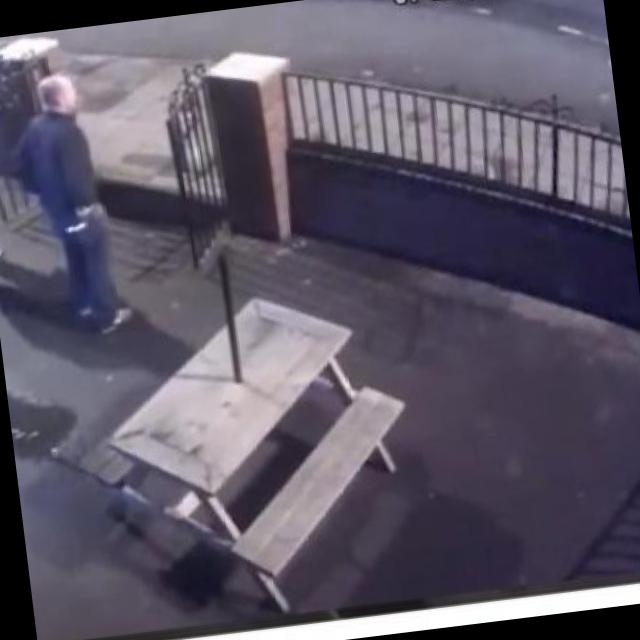hairnet: (33, 67, 72, 107)
